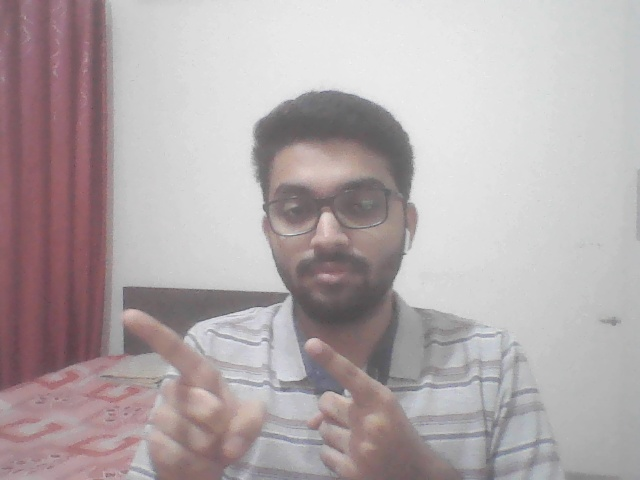go: (75, 285, 464, 480)
